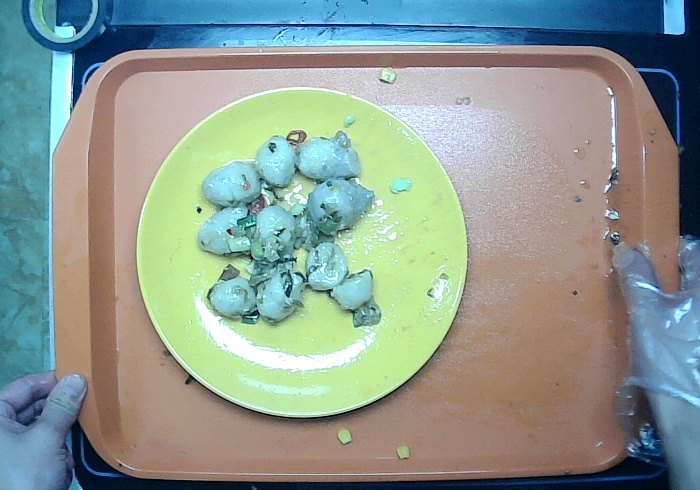HZYJPL-Huang_Se_Yuan_Pan: (133, 84, 469, 420)
